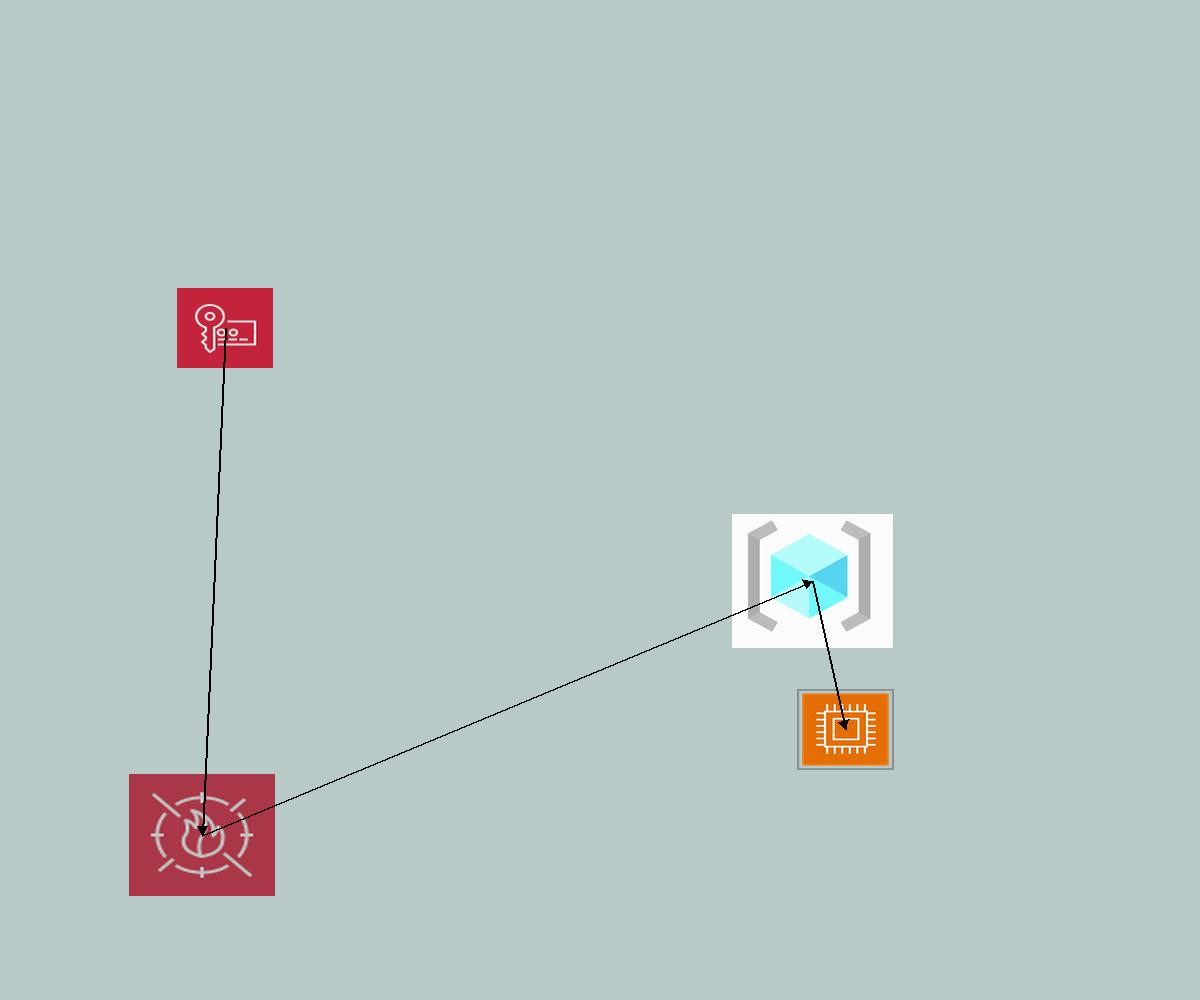AWS-Category_Compute: (797, 689, 894, 770)
AWS-Key-Management-Service: (177, 288, 273, 368)
AWS-WAF: (129, 774, 275, 896)
Azure_resource_group: (732, 514, 893, 648)
